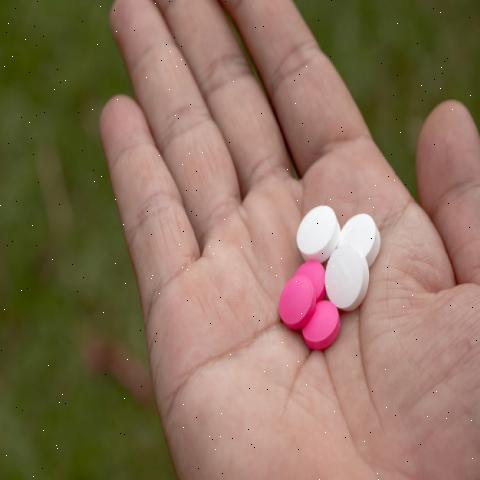Pill: (290, 188, 341, 262), (344, 197, 388, 269), (329, 246, 369, 316)
